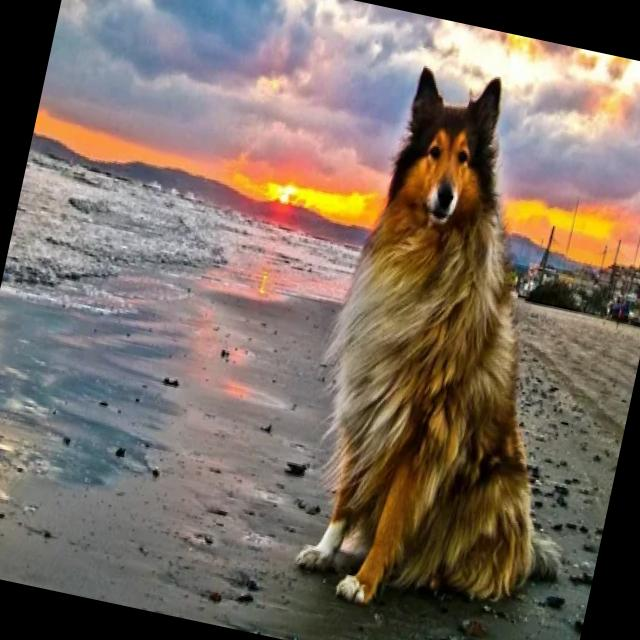Dog: (293, 52, 579, 632)
